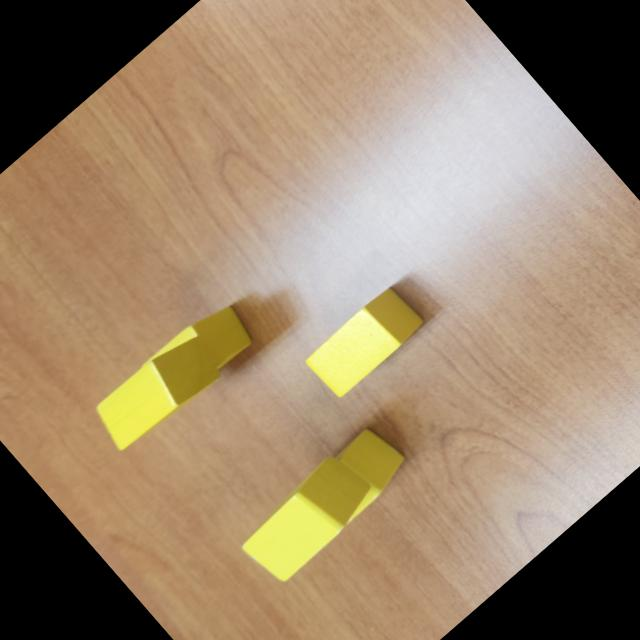yellow: (232, 446, 384, 590), (86, 324, 230, 460), (300, 280, 430, 404), (140, 294, 265, 414), (300, 418, 416, 530)
